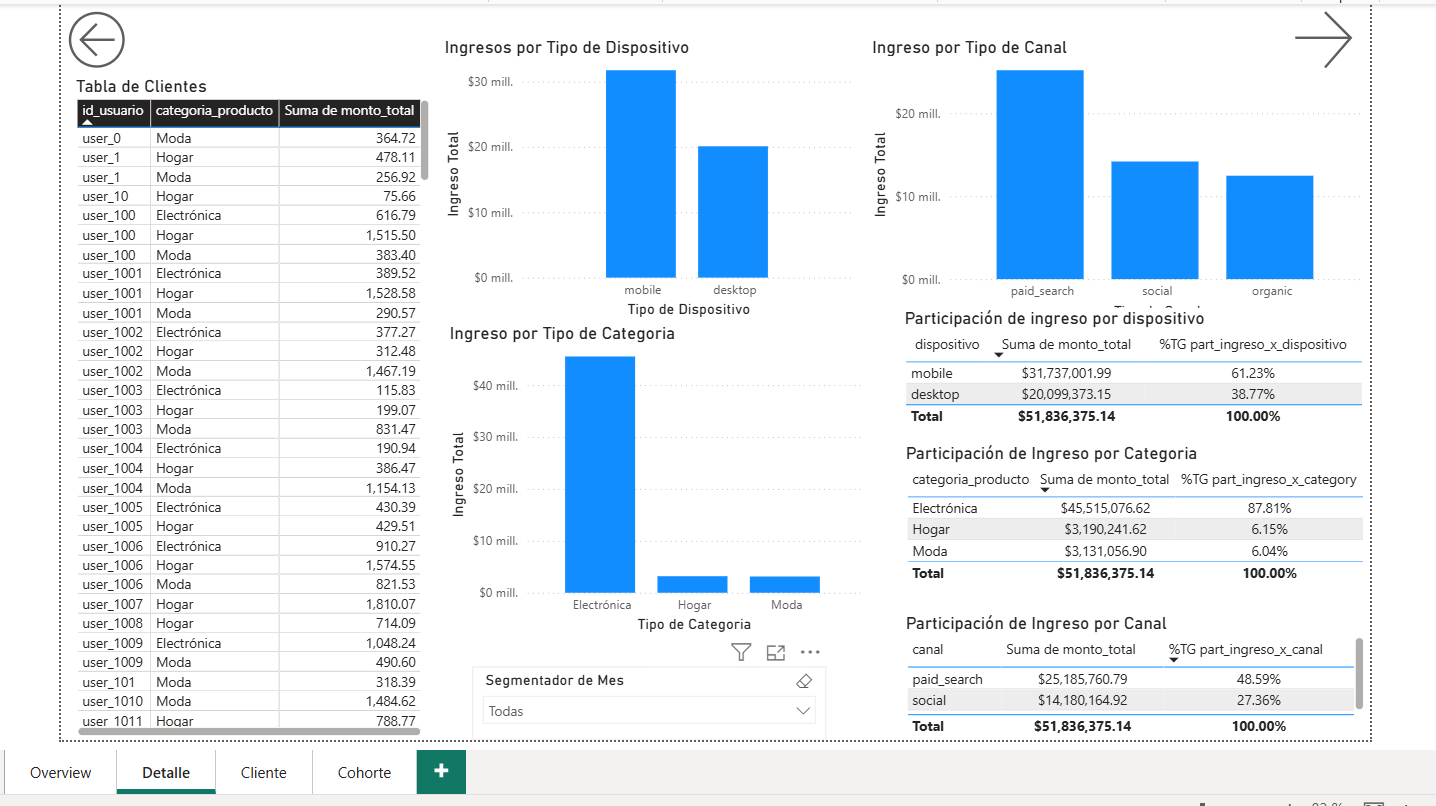

The page's visual inventory and layout, read from the dashboard file:
{"tool":"powerbi","page":{"name":"Detalle","canvas":[1280,720],"ordinal":1},"visuals":[{"type":"clusteredColumnChart","title":"Ingresos por Tipo de Dispositivo","fields":{"Category":["orders_clean.dispositivo"],"Y":["Sum(orders_clean.monto_total)"]},"box":[370.3,32.1,411.1,279.9],"z":0},{"type":"clusteredColumnChart","title":"Ingreso por Tipo de Categoria","fields":{"Category":["orders_clean.categoria_producto"],"Y":["orders_clean.Ingreso total"]},"box":[375.4,311.8,412.1,308.2],"z":1},{"type":"clusteredColumnChart","title":"Ingreso por Tipo de Canal","fields":{"Category":["orders_clean.fuente_referencia"],"Y":["Sum(orders_clean.monto_total)"]},"box":[788.7,32.1,491.3,281.4],"z":2},{"type":"tableEx","title":"Participación de Ingreso por Canal","fields":{"Values":["orders_clean.fuente_referencia","Sum(orders_clean.monto_total)","orders_clean.part_ingreso_x_canal"]},"box":[822,595,458,124.9],"z":3},{"type":"tableEx","title":"Participación de Ingreso por Categoria","fields":{"Values":["orders_clean.categoria_producto","Sum(orders_clean.monto_total)","orders_clean.part_ingreso_x_category"]},"box":[821.7,429.2,458.6,148],"z":4},{"type":"tableEx","title":"Participación de ingreso por dispositivo","fields":{"Values":["orders_clean.dispositivo","Sum(orders_clean.monto_total)","orders_clean.part_ingreso_x_dispositivo"]},"box":[820.5,297.1,458.6,124.7],"z":5},{"type":"tableEx","title":"Tabla de Clientes ","fields":{"Values":["orders_clean.id_usuario","orders_clean.categoria_producto","Sum(orders_clean.monto_total)"]},"box":[10.2,70,355.7,651.7],"z":6},{"type":"slicer","fields":{"Values":["Dim_fecha.Date.Variación.Jerarquía de fechas.Mes"]},"box":[402.3,648.1,346.1,72.1],"z":7},{"type":"actionButton","box":[0,0,80.2,70],"z":8},{"type":"actionButton","box":[1199.8,0,80.2,70],"z":9}]}

Visuals, with their boxes on the page's 1280x720 design canvas (x1, y1, x2, y2). These are canvas units, not pixel positions in the 1436x806 screenshot, which may show the page scaled, cropped or inside an application window:
"Ingresos por Tipo de Dispositivo" clusteredColumnChart: (x1=370, y1=32, x2=781, y2=312)
"Ingreso por Tipo de Categoria" clusteredColumnChart: (x1=375, y1=312, x2=788, y2=620)
"Ingreso por Tipo de Canal" clusteredColumnChart: (x1=789, y1=32, x2=1280, y2=314)
"Participación de Ingreso por Canal" tableEx: (x1=822, y1=595, x2=1280, y2=720)
"Participación de Ingreso por Categoria" tableEx: (x1=822, y1=429, x2=1280, y2=577)
"Participación de ingreso por dispositivo" tableEx: (x1=820, y1=297, x2=1279, y2=422)
"Tabla de Clientes " tableEx: (x1=10, y1=70, x2=366, y2=722)
slicer - Dim_fecha.Date.Variación.Jerarquía de fechas.Mes: (x1=402, y1=648, x2=748, y2=720)
actionButton: (x1=0, y1=0, x2=80, y2=70)
actionButton: (x1=1200, y1=0, x2=1280, y2=70)
